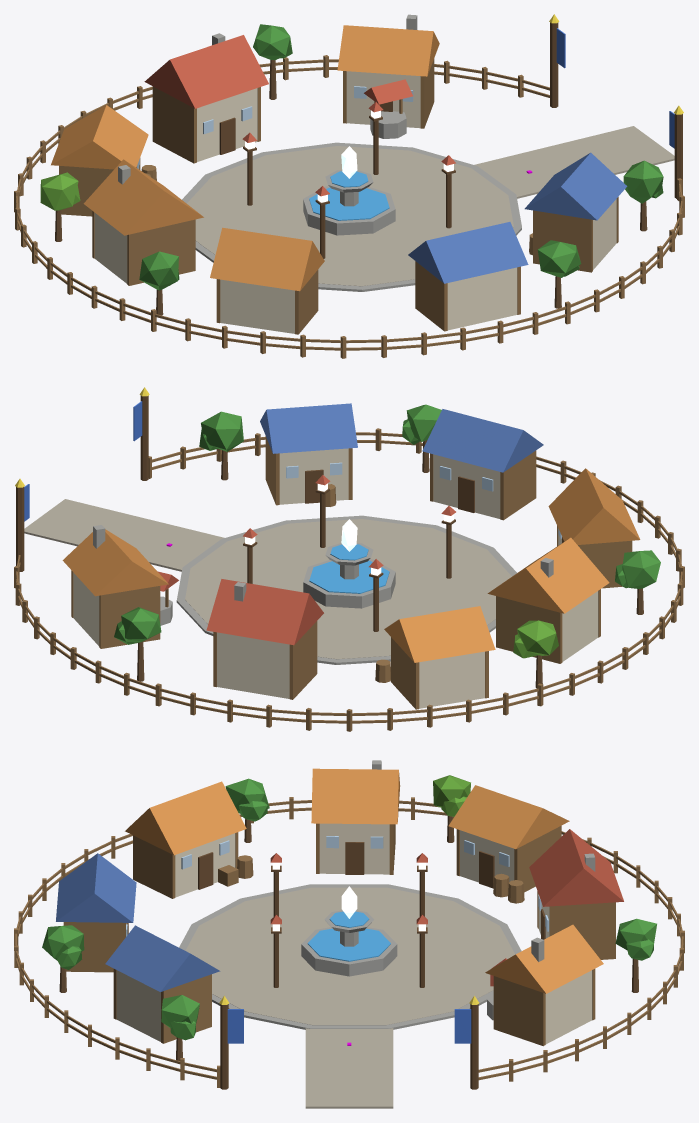
The model's file is LP_StartTown.fbx.
3 renders of one model, top to bottom at view 1: azimuth 30°, elevation 25°; view 2: azimuth 150°, elevation 25°; view 3: azimuth 270°, elevation 25°, orthographic.
Visible parts, largest first — view 1: Town_Buildings, Town_Ground; view 2: Town_Buildings, Town_Ground; view 3: Town_Buildings, Town_Ground.
Part boxes in pixels (box(x1,y1,x2,y2)): Town_Buildings: box(14, 14, 684, 358); Town_Ground: box(182, 126, 674, 291); Town_Buildings: box(14, 387, 684, 731); Town_Ground: box(24, 499, 516, 664); Town_Buildings: box(14, 760, 684, 1089); Town_Ground: box(179, 884, 521, 1108).
Size of the model in its own units: 33.08 by 5.2 by 32.17.
